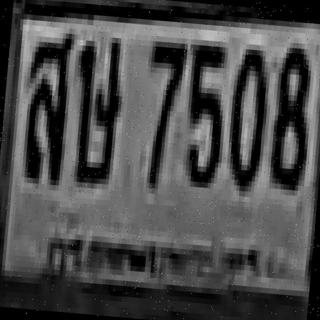A39: (68, 32, 124, 182)
A40: (18, 25, 72, 180)
N00: (222, 42, 269, 187)
N05: (180, 39, 227, 183)
N07: (138, 36, 185, 185)
N08: (266, 41, 313, 185)
